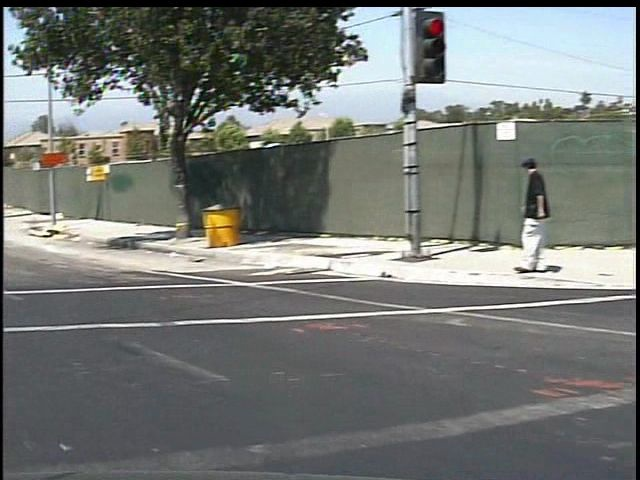person: (498, 150, 550, 287)
